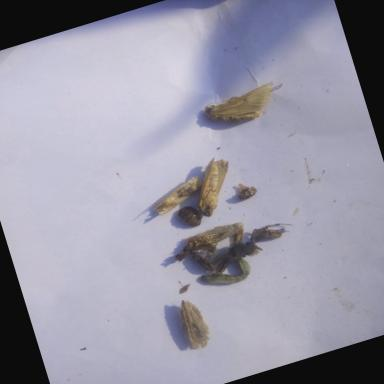abw: (201, 77, 289, 134), (184, 151, 244, 220), (144, 169, 207, 216)
